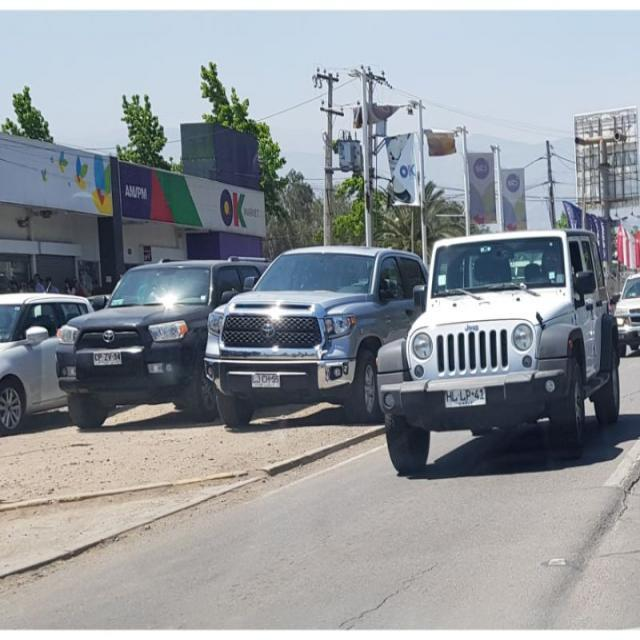Car: (373, 226, 621, 473), (201, 243, 429, 428), (54, 256, 269, 429), (0, 290, 95, 437), (612, 270, 639, 357)
